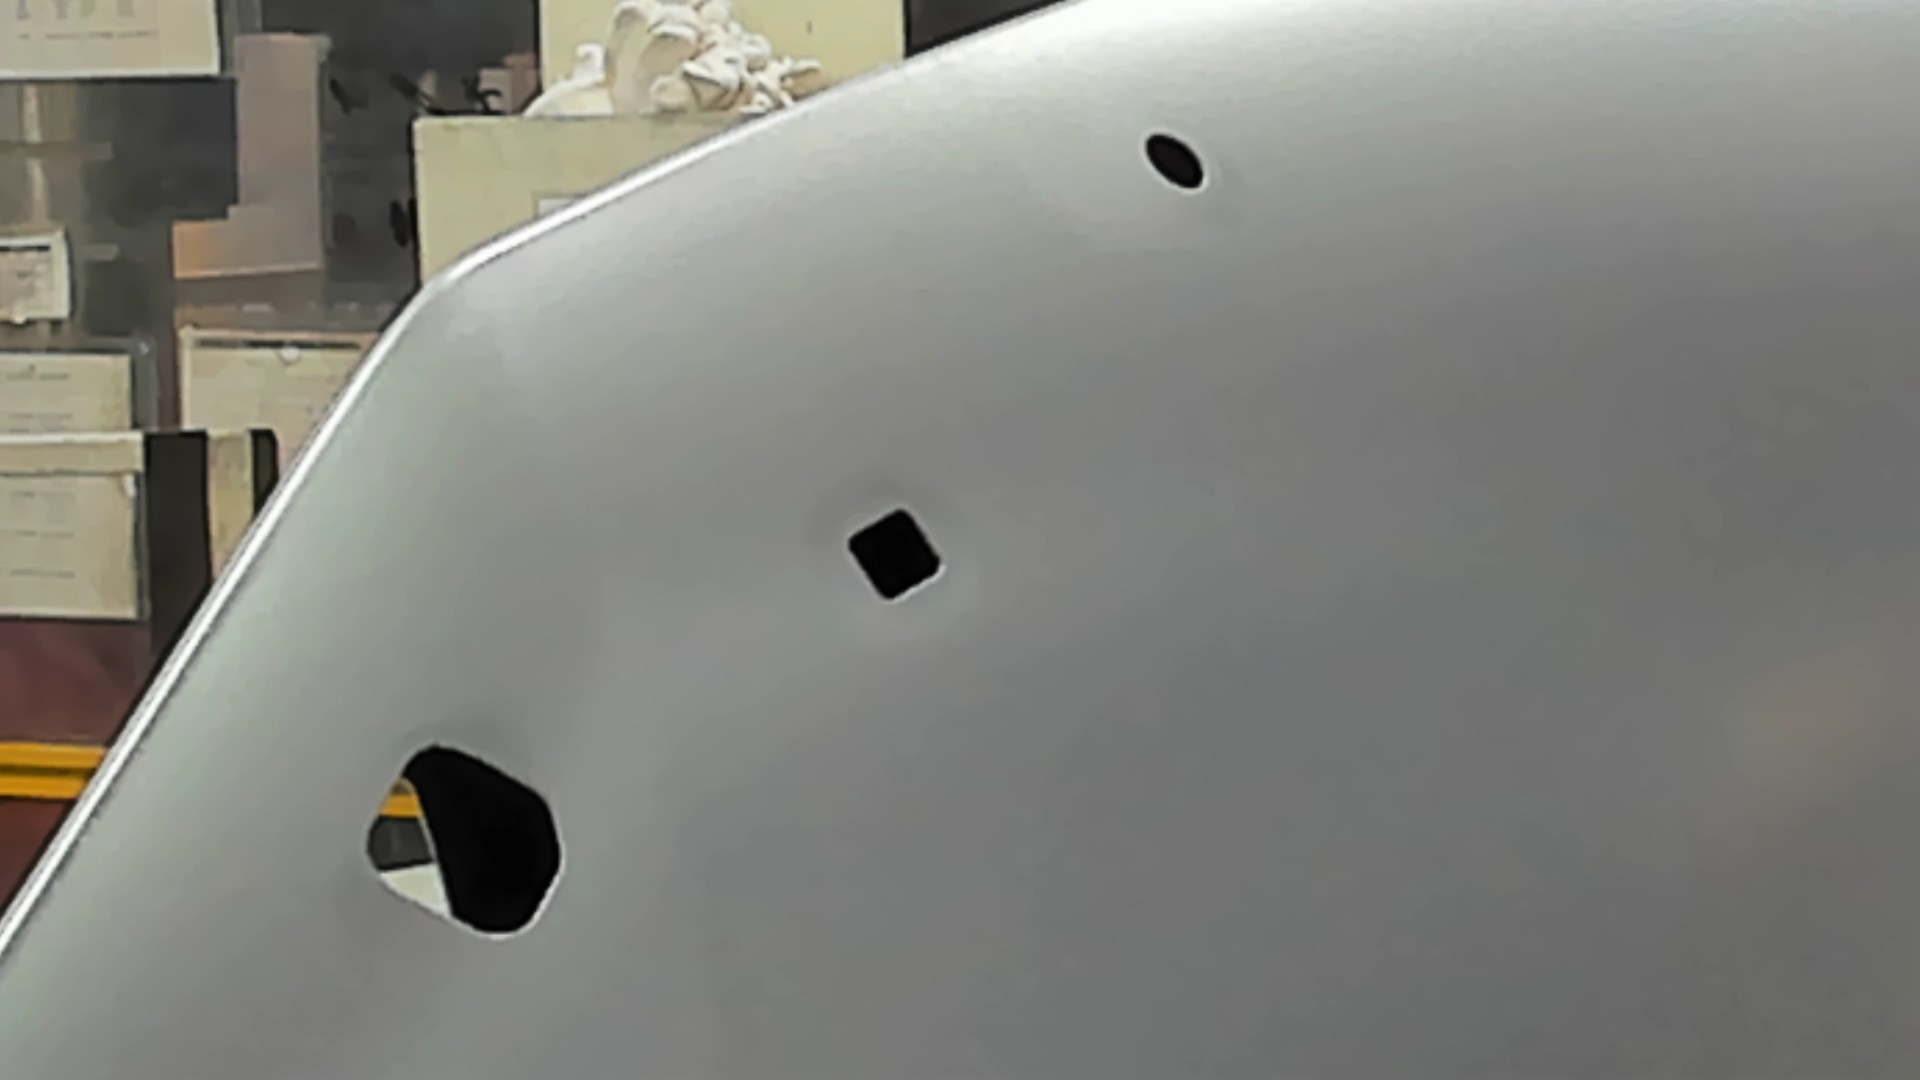capo: (952, 200, 1920, 1080)
chico: (1142, 127, 1209, 199)
grande: (361, 737, 568, 944)
mediano: (841, 501, 947, 605)
